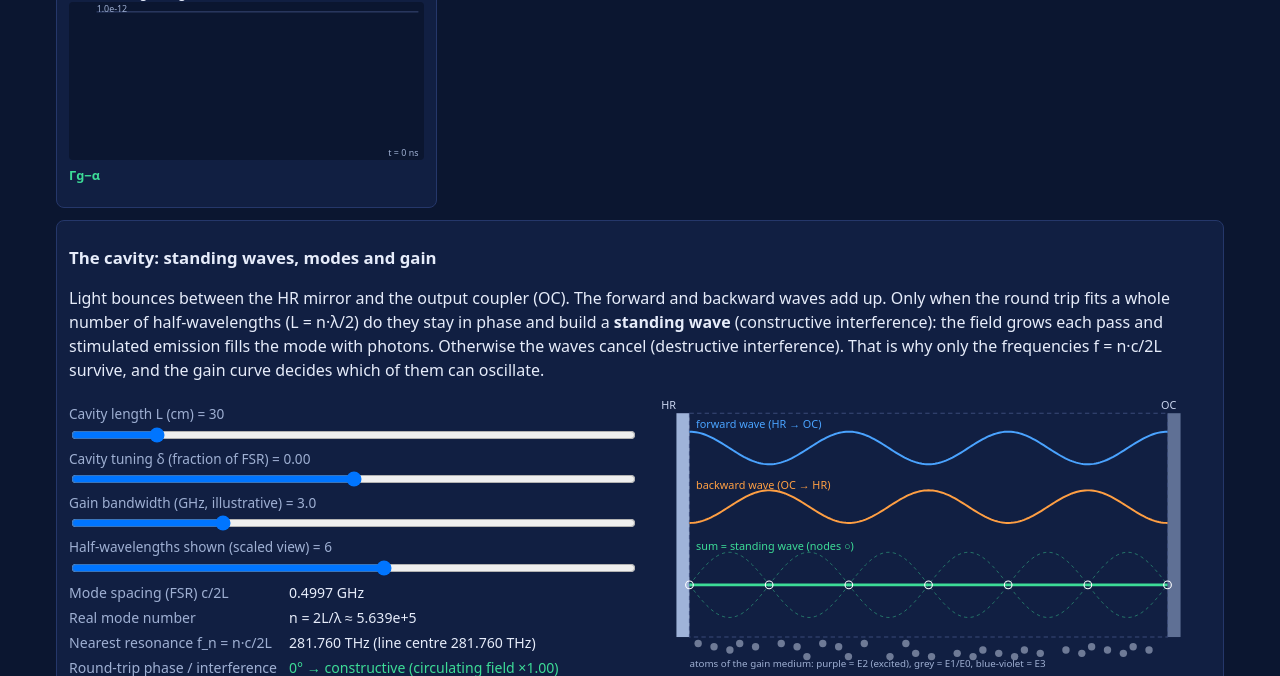
Test case: cavity panel › cavity length sets the mode spacing c/2L
(page scrolled)
Set the slider labelled "Cavity length L (cm)" to "60". click: coordinates (275, 435)
box: [71, 427, 636, 443]
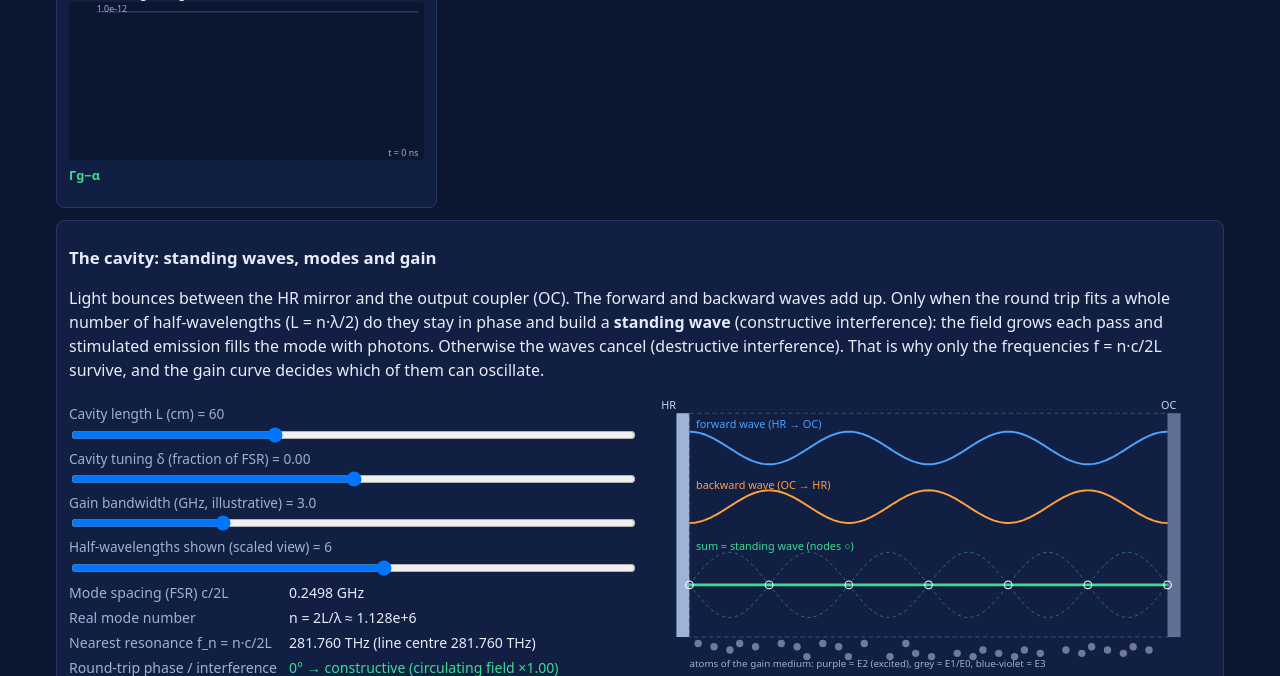
Result: the text with test id "fsr" shows "0.2498" at [289, 583, 333, 602]
Set the slider labelled "Cavity length L (cm)" to "30". click: coordinates (157, 435)
box: [71, 427, 636, 443]
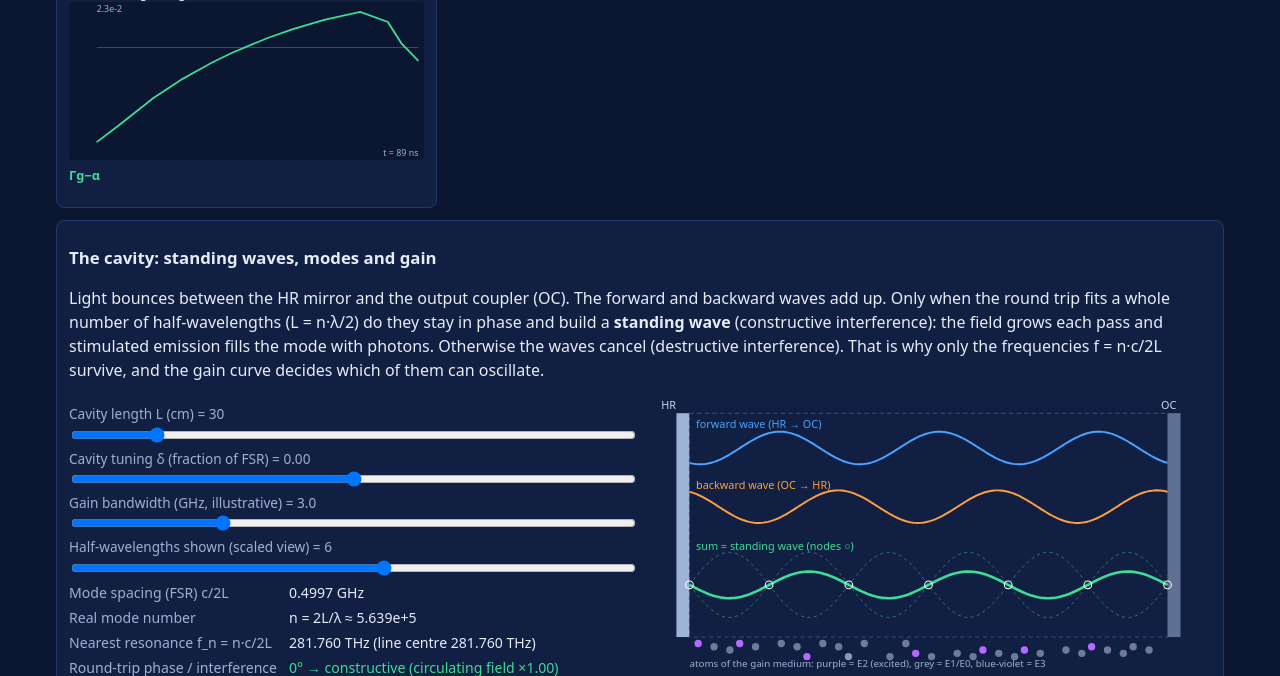
Result: the text with test id "fsr" shows "0.4997" at [289, 583, 333, 602]
